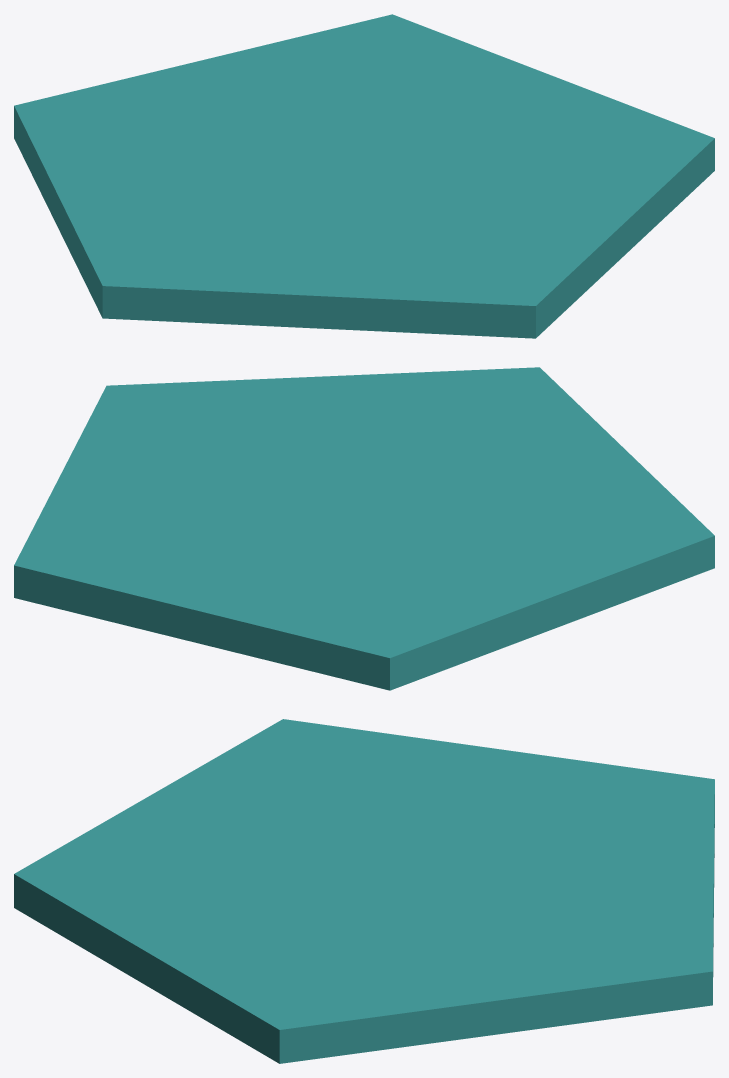
Rendered from Planet_Water_Pentagon (1).fbx.
3 views of the same model, one above another, from view 1: azimuth 30°, elevation 25°; view 2: azimuth 150°, elevation 25°; view 3: azimuth 270°, elevation 25° (orthographic). The views are drawn at different scales.
Visible parts, largest first — view 1: PentSea; view 2: PentSea; view 3: PentSea.
Boxes of the visible parts, <box> form: PentSea: <box>14,14,714,338</box>; PentSea: <box>14,367,714,690</box>; PentSea: <box>14,719,714,1063</box>.
Size of the model in its own units: 5.08 by 0.2585 by 4.84.
